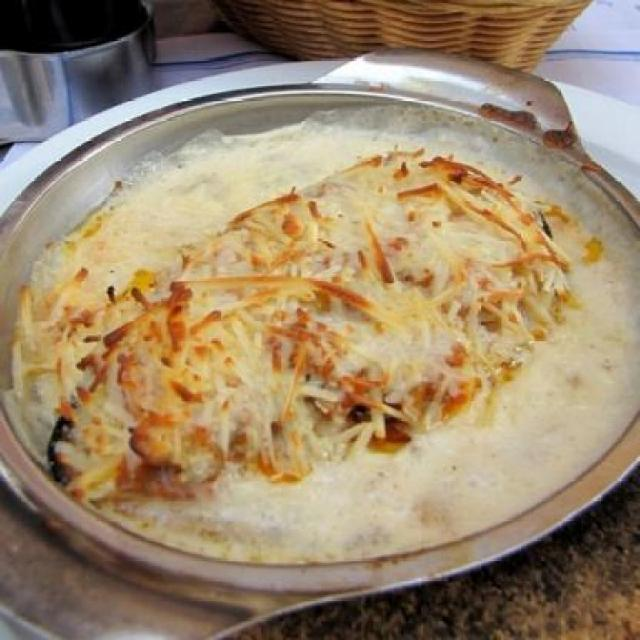Lasagna: (79, 170, 578, 533)
